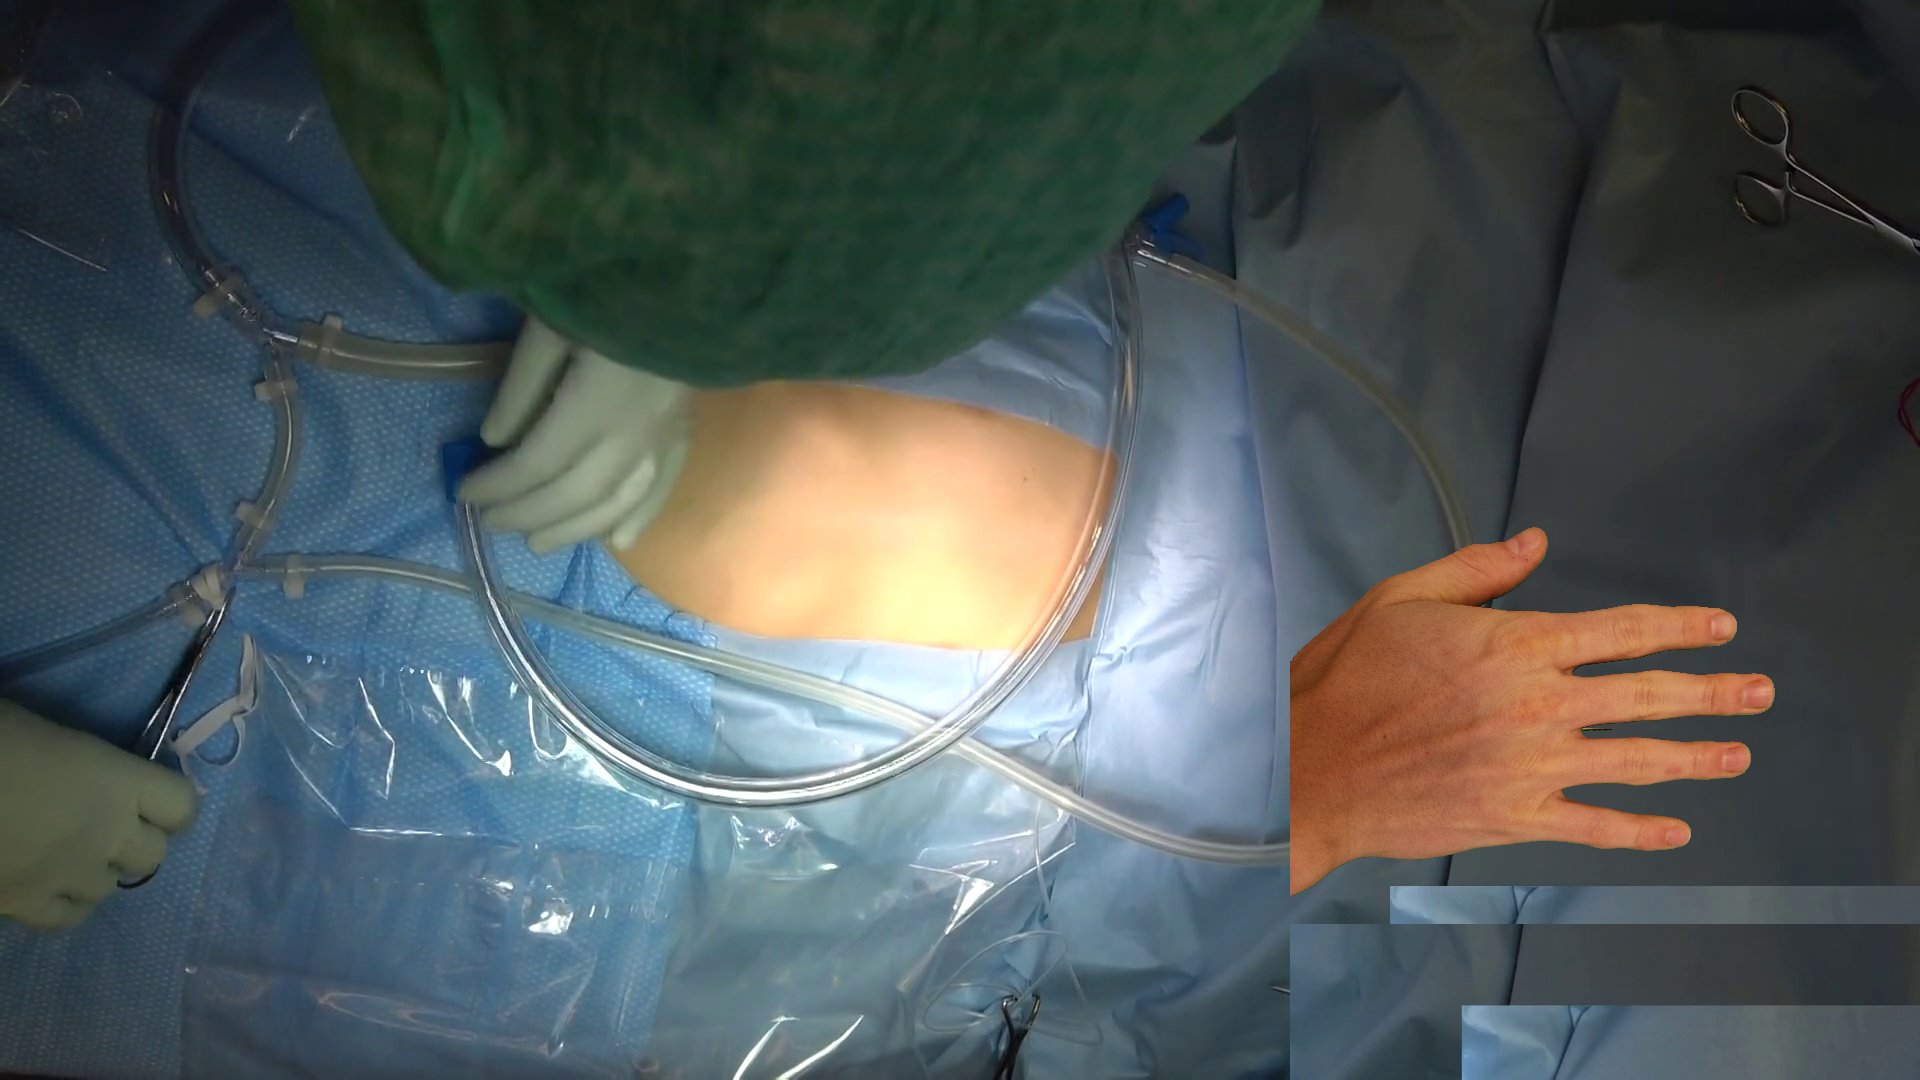forceps: (1582, 728, 1611, 731)
